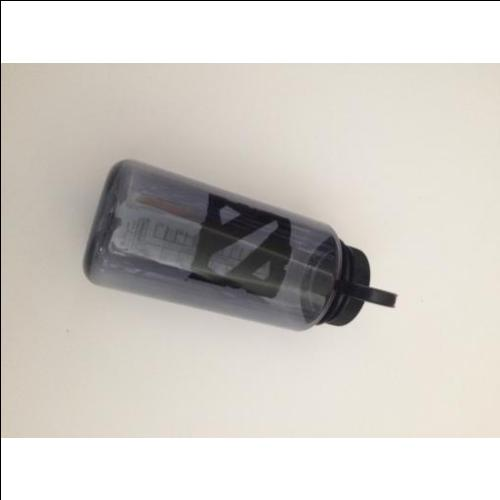plastic: (91, 159, 368, 334)
